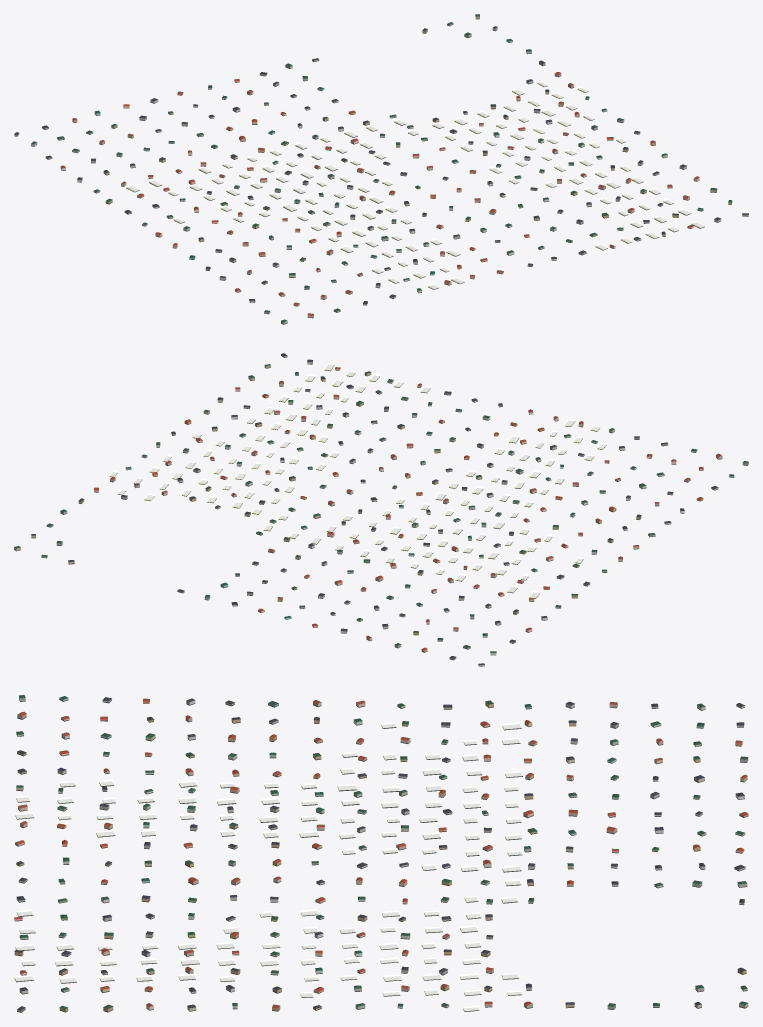
The model's file is buildings_T_W03_N02.glb.
3 views of the same model, one above another, from view 1: azimuth 30°, elevation 25°; view 2: azimuth 150°, elevation 25°; view 3: azimuth 270°, elevation 25° (orthographic). The views are drawn at different scales.
Parts seen in each view (by area): view 1: T_W03_N02_slope_seating_foundations, T_W03_N02_roofs_agri_greenhouse_arch, T_W03_N02_roofs_roof_pine_green_hip, T_W03_N02_roofs_roof_slate_French_villa_hip, T_W03_N02_roofs_roof_terracotta_gable, T_W03_N02_walls_wall_pastel_sand_gray, T_W03_N02_walls_wall_dalat_cream_stucco, T_W03_N02_walls_wall_french_ochre_villa, T_W03_N02_walls_wall_modern_warm_white; view 2: T_W03_N02_slope_seating_foundations, T_W03_N02_roofs_agri_greenhouse_arch, T_W03_N02_roofs_roof_pine_green_hip, T_W03_N02_roofs_roof_slate_French_villa_hip, T_W03_N02_roofs_roof_terracotta_gable, T_W03_N02_walls_wall_dalat_cream_stucco, T_W03_N02_walls_wall_pastel_sand_gray, T_W03_N02_walls_wall_french_ochre_villa, T_W03_N02_walls_wall_modern_warm_white; view 3: T_W03_N02_roofs_agri_greenhouse_arch, T_W03_N02_slope_seating_foundations, T_W03_N02_roofs_roof_pine_green_hip, T_W03_N02_roofs_roof_slate_French_villa_hip, T_W03_N02_roofs_roof_terracotta_gable, T_W03_N02_walls_wall_pastel_sand_gray, T_W03_N02_walls_wall_dalat_cream_stucco, T_W03_N02_walls_wall_french_ochre_villa, T_W03_N02_walls_wall_modern_warm_white.
Boxes of the visible parts, x1,y1,x2,y2 form: T_W03_N02_slope_seating_foundations: [14, 18, 748, 324]; T_W03_N02_roofs_agri_greenhouse_arch: [126, 81, 704, 289]; T_W03_N02_roofs_roof_pine_green_hip: [31, 14, 732, 321]; T_W03_N02_roofs_roof_slate_French_villa_hip: [14, 26, 748, 303]; T_W03_N02_roofs_roof_terracotta_gable: [61, 72, 699, 315]; T_W03_N02_walls_wall_pastel_sand_gray: [42, 34, 703, 324]; T_W03_N02_walls_wall_dalat_cream_stucco: [86, 16, 721, 312]; T_W03_N02_walls_wall_french_ochre_villa: [72, 30, 748, 304]; T_W03_N02_walls_wall_modern_warm_white: [14, 80, 699, 313]; T_W03_N02_slope_seating_foundations: [14, 355, 748, 666]; T_W03_N02_roofs_agri_greenhouse_arch: [109, 363, 606, 598]; T_W03_N02_roofs_roof_pine_green_hip: [14, 364, 748, 652]; T_W03_N02_roofs_roof_slate_French_villa_hip: [31, 353, 718, 665]; T_W03_N02_roofs_roof_terracotta_gable: [94, 367, 721, 650]; T_W03_N02_walls_wall_dalat_cream_stucco: [14, 362, 697, 641]; T_W03_N02_walls_wall_pastel_sand_gray: [46, 374, 748, 659]; T_W03_N02_walls_wall_french_ochre_villa: [68, 354, 702, 652]; T_W03_N02_walls_wall_modern_warm_white: [141, 368, 734, 666]; T_W03_N02_roofs_agri_greenhouse_arch: [14, 722, 522, 1011]; T_W03_N02_slope_seating_foundations: [14, 699, 748, 1012]; T_W03_N02_roofs_roof_pine_green_hip: [16, 695, 748, 1009]; T_W03_N02_roofs_roof_slate_French_villa_hip: [14, 697, 746, 1010]; T_W03_N02_roofs_roof_terracotta_gable: [14, 698, 748, 1008]; T_W03_N02_walls_wall_pastel_sand_gray: [16, 697, 748, 1009]; T_W03_N02_walls_wall_dalat_cream_stucco: [16, 702, 748, 1010]; T_W03_N02_walls_wall_french_ochre_villa: [14, 700, 746, 1012]; T_W03_N02_walls_wall_modern_warm_white: [14, 698, 745, 1009].
Size of the model in its own units: 1605 by 31.5 by 1595.
